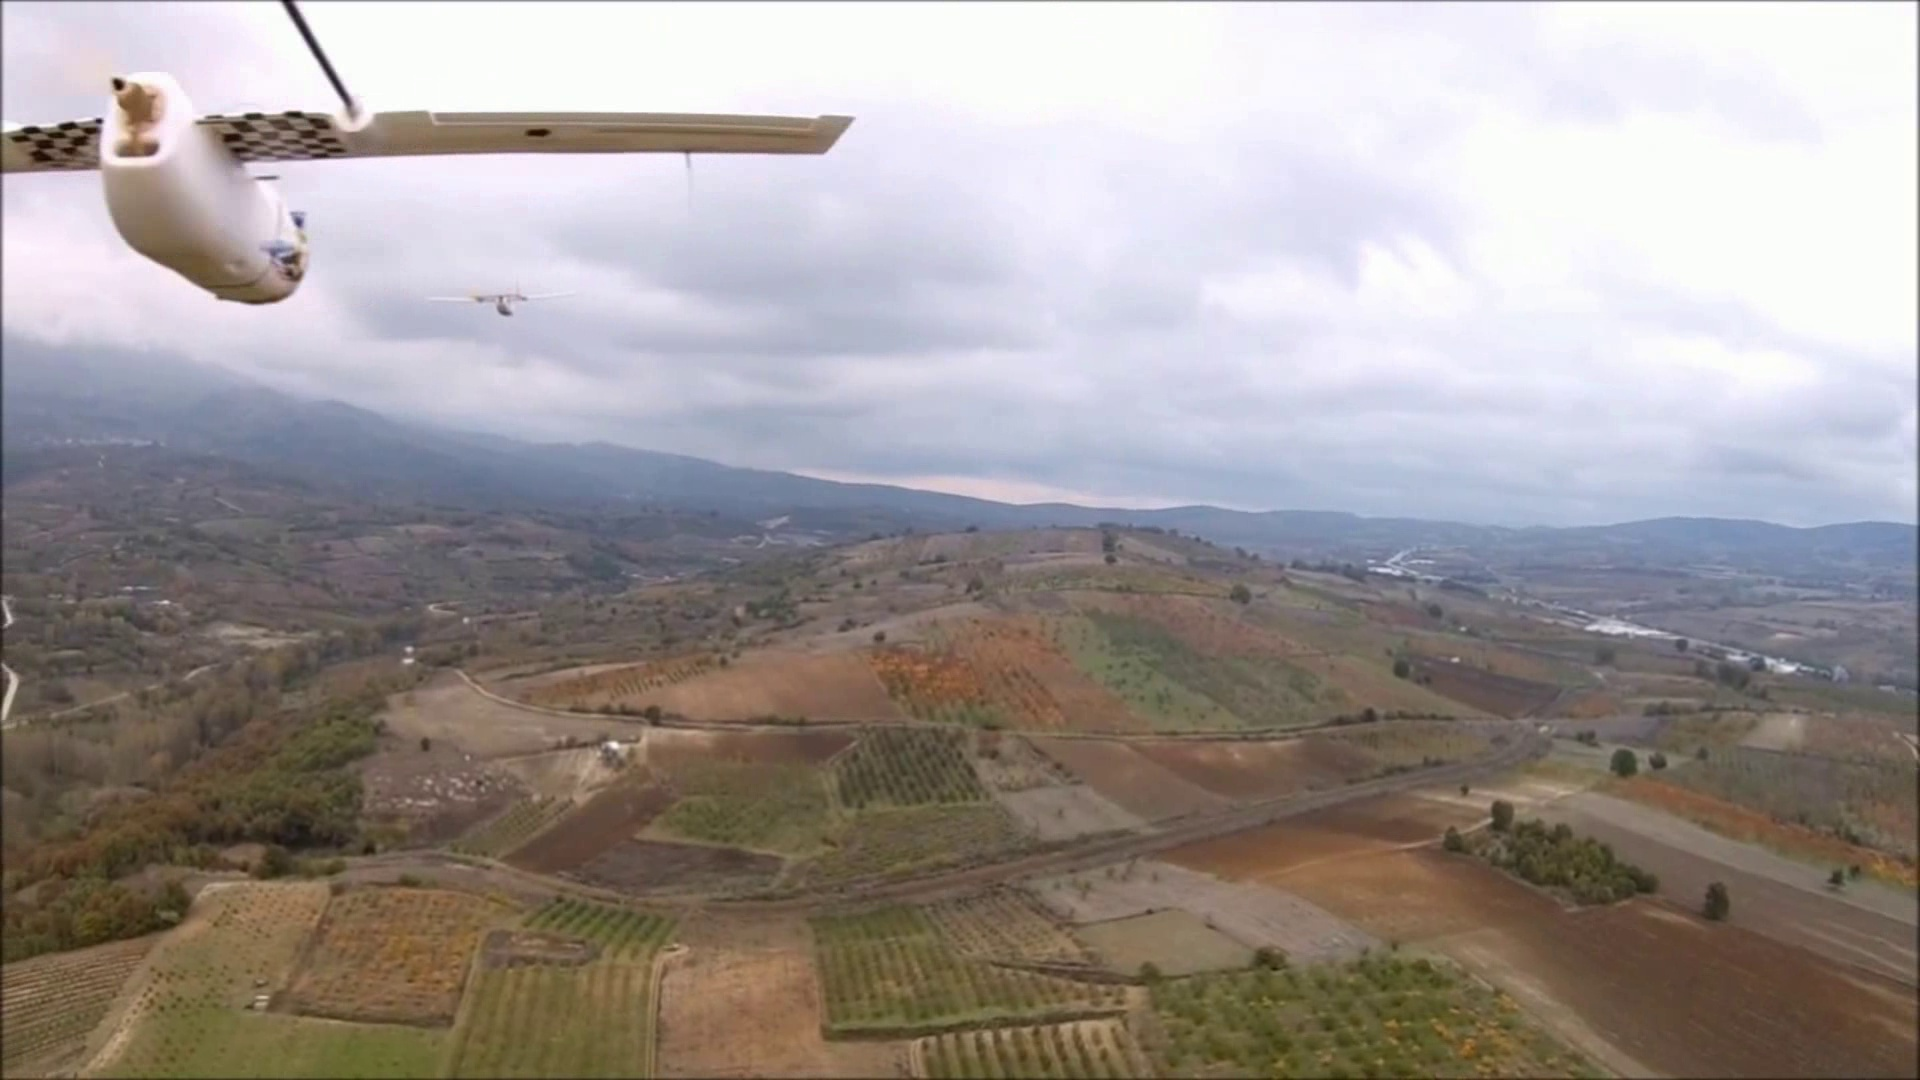airplane: (5, 2, 857, 305)
